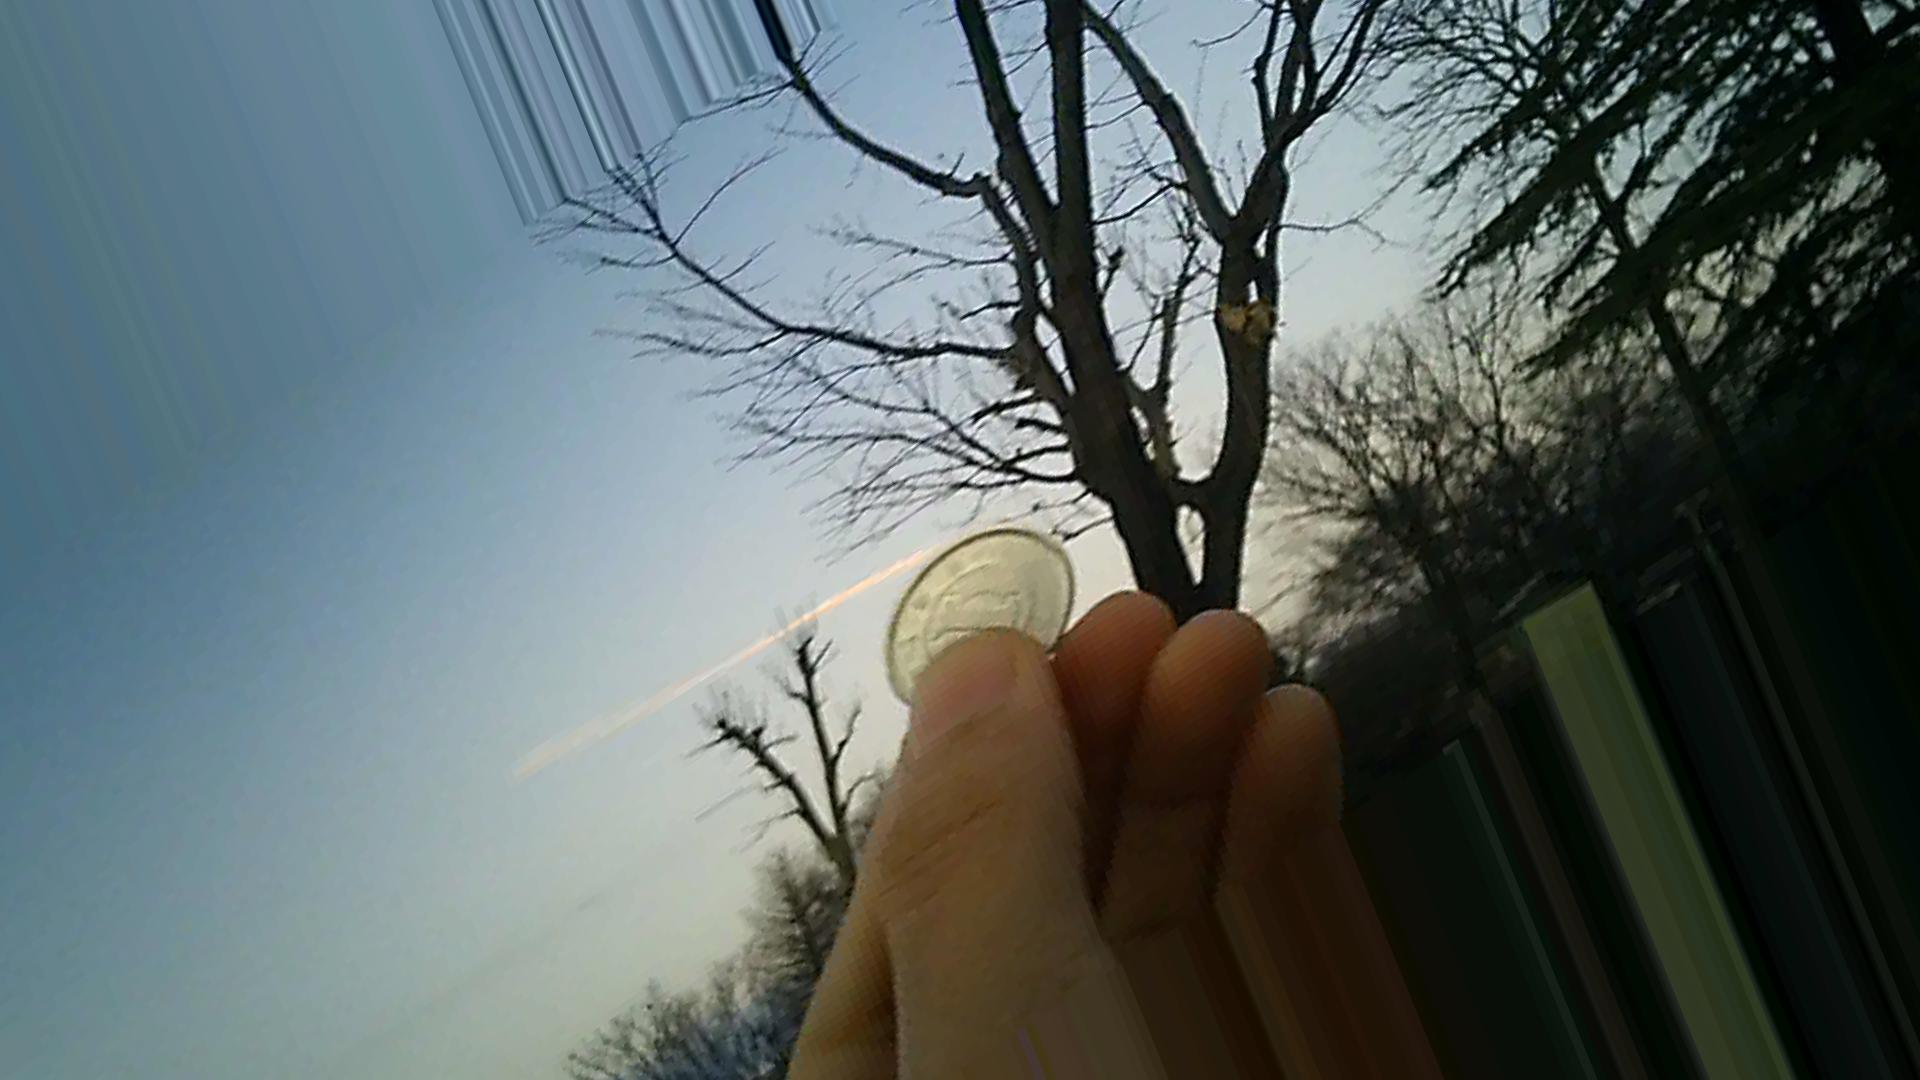1 Yen: (884, 525, 1079, 694)
